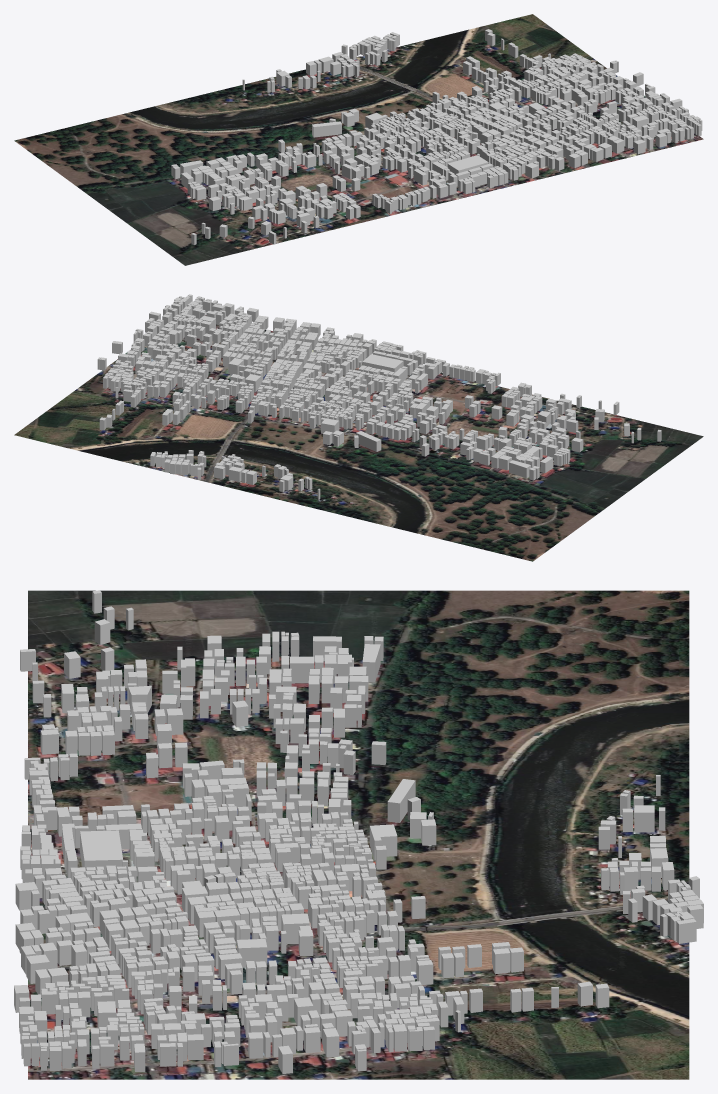
File: BrgyTres.glb
3 views of the same model, one above another, from view 1: azimuth 30°, elevation 25°; view 2: azimuth 150°, elevation 25°; view 3: azimuth 270°, elevation 25° (orthographic). The views are drawn at different scales.
Visible parts, largest first — view 1: EXPORT_GOOGLE_SAT_WM, Areas:building; view 2: EXPORT_GOOGLE_SAT_WM, Areas:building; view 3: EXPORT_GOOGLE_SAT_WM, Areas:building.
Part boxes in pixels (<box>): EXPORT_GOOGLE_SAT_WM: <box>14,14,703,265</box>; Areas:building: <box>171,29,702,245</box>; EXPORT_GOOGLE_SAT_WM: <box>14,315,703,561</box>; Areas:building: <box>97,294,661,499</box>; EXPORT_GOOGLE_SAT_WM: <box>28,590,689,1079</box>; Areas:building: <box>14,590,703,1073</box>.
Size of what is drawn, in the model's own units: 1083 by 34.22 by 638.
1 material, 1 textured.
